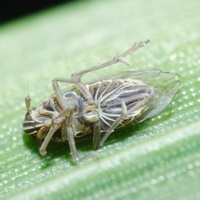insect: (23, 40, 179, 161)
